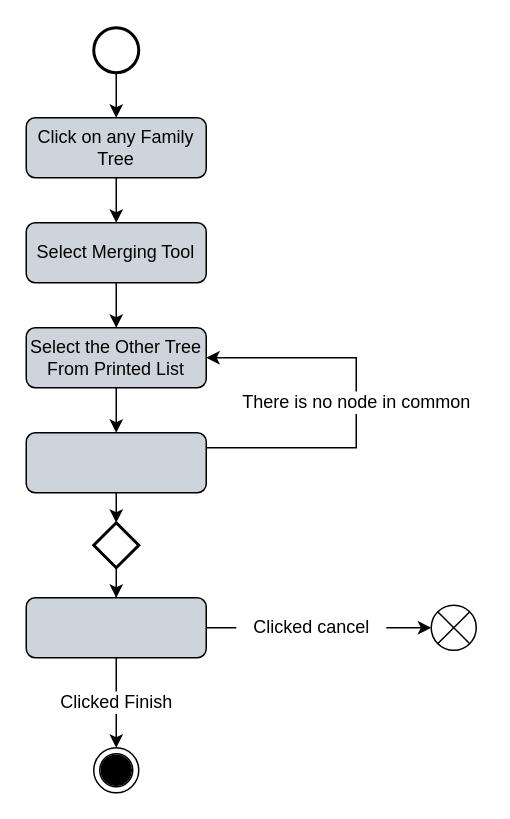
Some shapes in this 510 by 819 pixel diagram are drawn without their labels. The shapes that lost their labels are listed below. From the top down, each one's centre as x and y in pixels, then its label:
At (115,462): "Check if There is a Node in Common".
At (115,627): "Print out Merged Tree".
